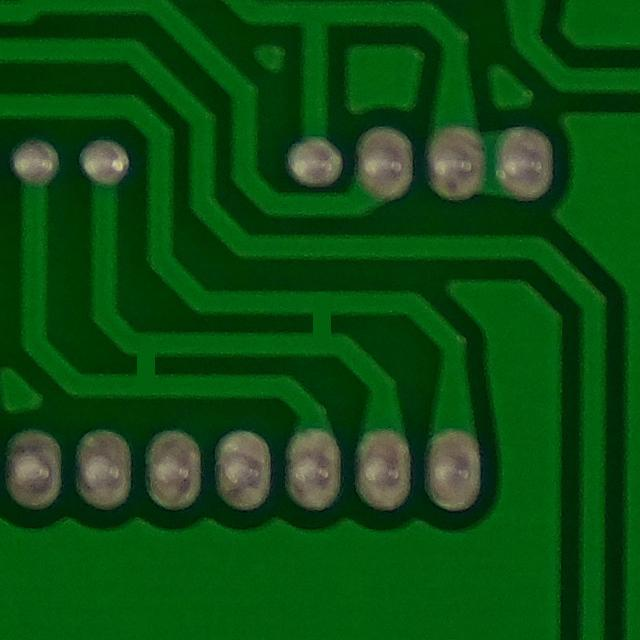short: (282, 278, 358, 363)
